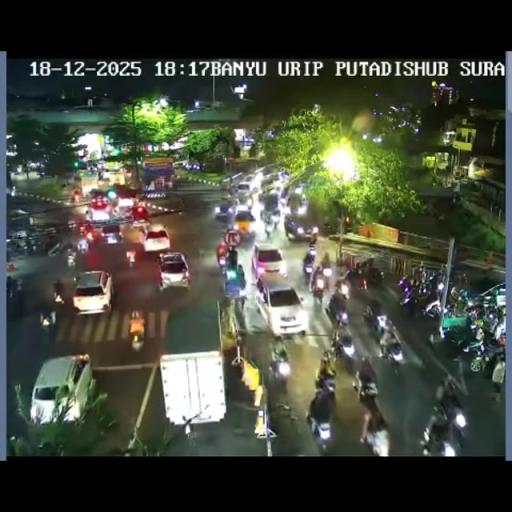Car: (30, 354, 92, 426), (254, 278, 306, 336), (72, 270, 114, 314), (156, 252, 190, 290), (252, 244, 286, 278), (284, 214, 319, 240), (142, 227, 170, 254), (87, 198, 113, 222), (233, 210, 256, 234), (287, 189, 307, 216), (234, 180, 256, 203), (116, 189, 138, 212), (100, 223, 122, 245), (259, 172, 283, 192), (214, 202, 235, 224), (130, 204, 150, 226), (172, 159, 190, 169)
Motorcycle: (312, 250, 406, 448), (422, 392, 468, 454), (459, 326, 504, 372), (358, 401, 390, 454), (306, 390, 335, 448), (373, 317, 403, 363), (48, 280, 71, 338), (404, 279, 437, 316), (352, 359, 378, 399), (222, 264, 246, 301), (330, 328, 354, 364), (327, 292, 350, 325), (269, 355, 290, 385), (452, 357, 468, 394), (129, 314, 145, 350), (314, 370, 336, 395), (310, 270, 328, 300), (491, 358, 504, 399), (448, 286, 470, 310), (435, 375, 453, 403), (490, 311, 506, 341), (464, 302, 485, 322), (428, 271, 445, 295), (302, 250, 316, 278), (23, 236, 44, 254), (355, 270, 370, 292), (43, 237, 62, 254), (6, 276, 20, 299), (414, 264, 428, 286), (362, 304, 374, 327), (262, 214, 274, 236), (216, 244, 227, 268), (66, 248, 77, 268), (320, 252, 330, 274), (83, 224, 94, 241), (126, 250, 136, 267), (308, 230, 318, 246), (77, 240, 88, 254), (278, 193, 288, 208), (258, 189, 268, 204), (322, 222, 334, 234), (228, 186, 238, 200), (220, 180, 230, 193), (355, 261, 364, 274), (164, 177, 173, 189), (84, 209, 92, 221), (72, 192, 80, 202)
